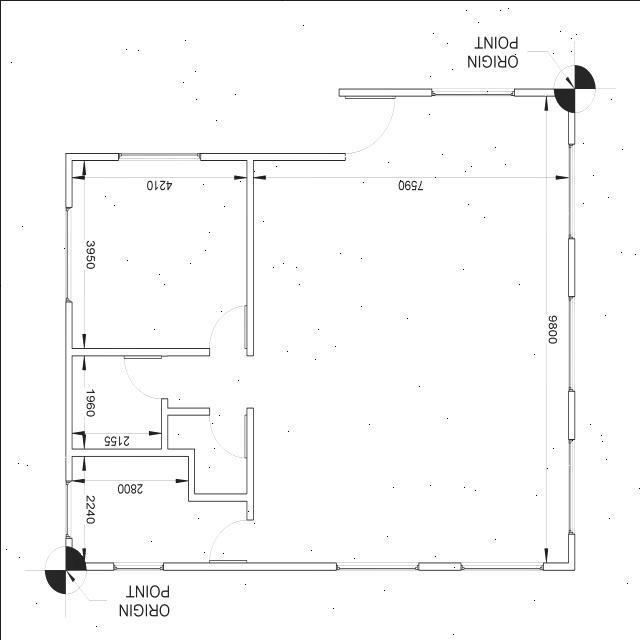Column: (64, 546, 72, 570), (567, 88, 574, 111), (553, 88, 567, 96), (72, 562, 85, 570)
Door: (338, 95, 396, 153), (208, 518, 253, 562), (208, 304, 246, 356), (208, 407, 246, 458), (123, 354, 167, 398)
Window: (64, 206, 72, 302), (430, 88, 514, 96), (334, 562, 418, 570), (567, 438, 574, 534), (567, 142, 574, 238), (117, 152, 200, 160), (460, 562, 542, 570), (568, 295, 574, 391), (64, 480, 72, 538), (112, 562, 162, 570)
